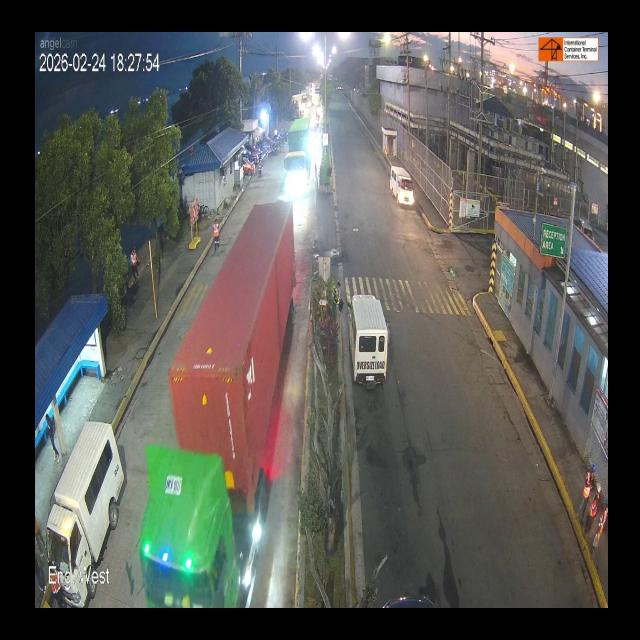car: (35, 431, 125, 567), (345, 308, 392, 406), (394, 166, 416, 219)
truck: (132, 191, 306, 601), (282, 116, 316, 202)
